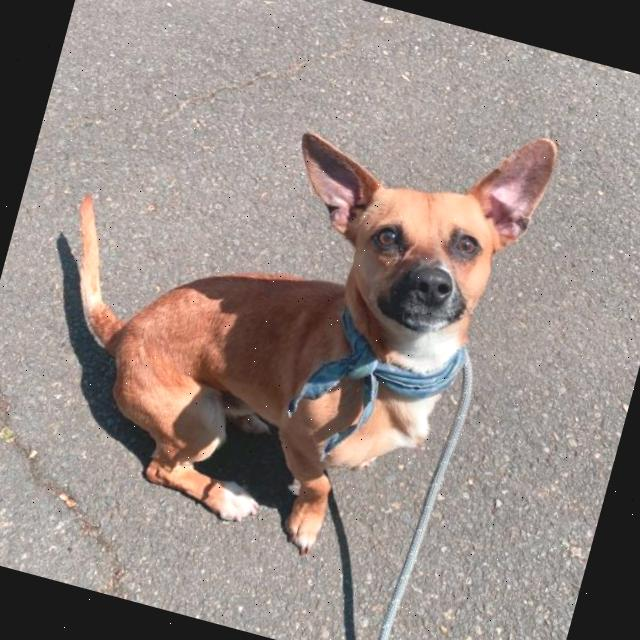chihuahua_dog: (252, 74, 572, 374)
